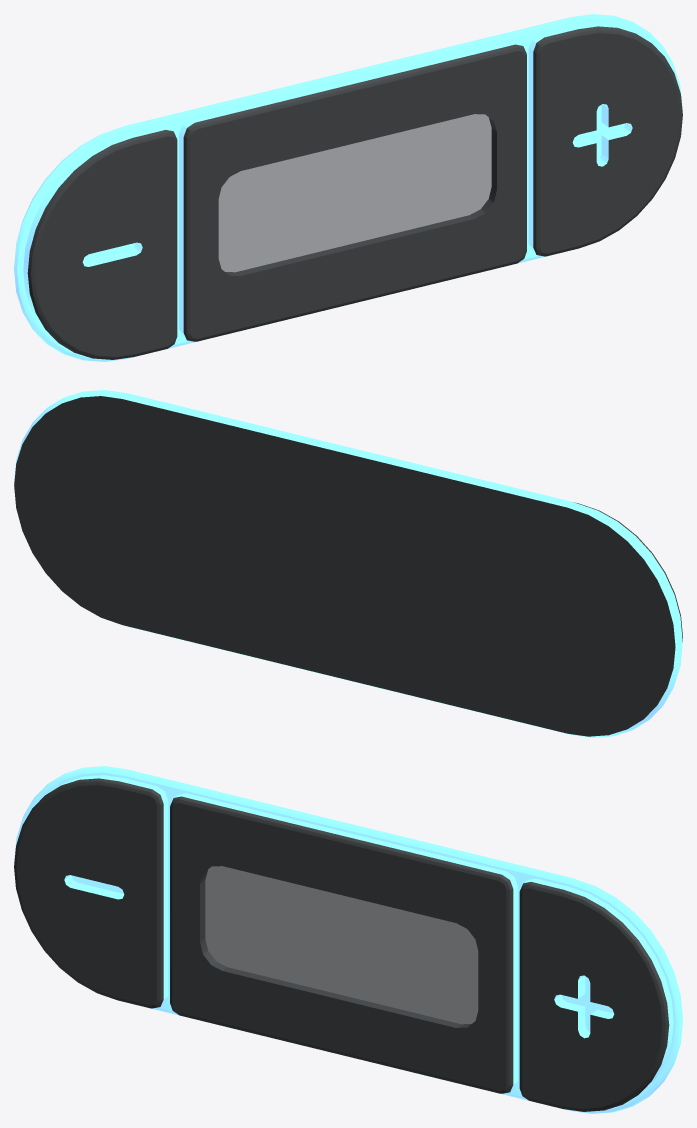
Rendered from stepper-2deea3.glb.
3 views of the same model, one above another, from view 1: azimuth 30°, elevation 25°; view 2: azimuth 150°, elevation 25°; view 3: azimuth 330°, elevation 25° (orthographic).
Parts seen in each view (by area): view 1: stepper, stepper-light; view 2: stepper, stepper-light; view 3: stepper, stepper-light.
Boxes of the visible parts, x1,y1,x2,y2 form: stepper: (27, 26, 682, 359); stepper-light: (14, 14, 682, 361); stepper: (14, 396, 682, 736); stepper-light: (14, 390, 682, 737); stepper: (14, 778, 669, 1111); stepper-light: (14, 766, 682, 1113).
Size of the model in its own units: 0.12 by 0.04 by 0.004.
